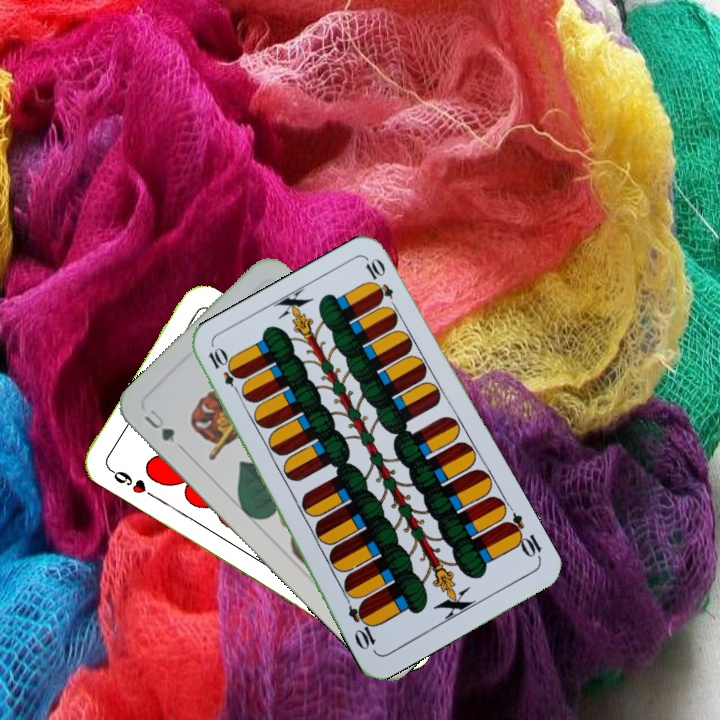E10: (500, 509, 545, 563), (204, 344, 245, 399)
GU: (140, 405, 179, 445)
H9: (104, 463, 149, 497)
